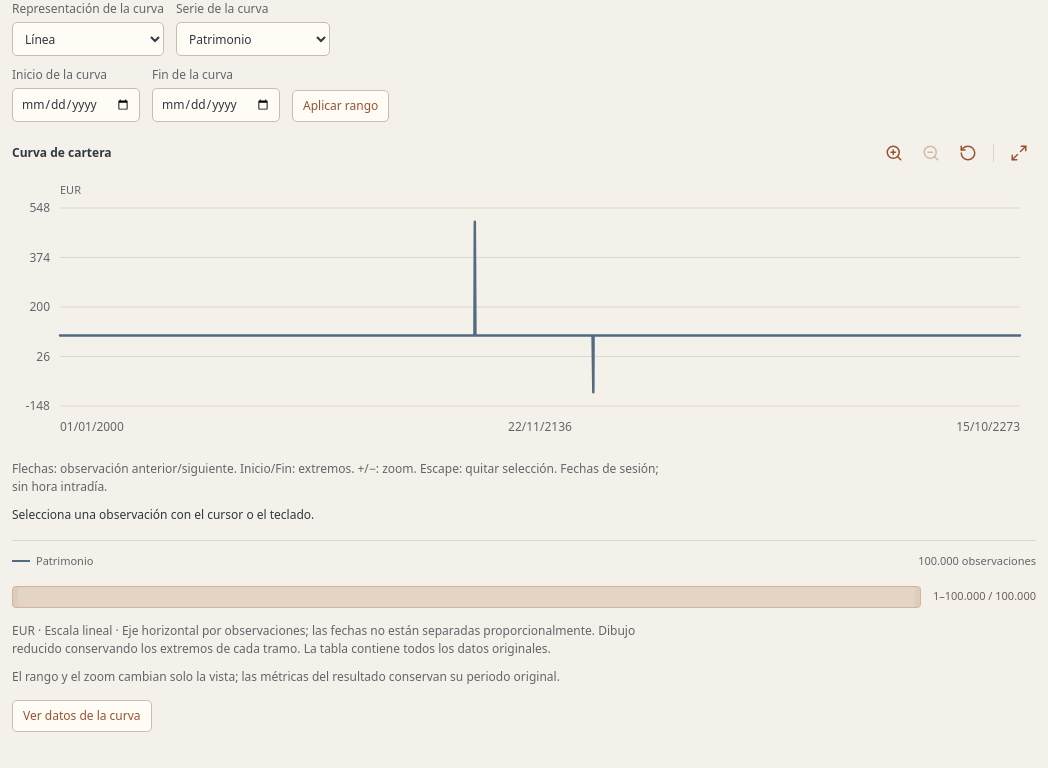
Curva accesible y representación de valores › reduce solo el dibujo de una serie grande y conserva extremos, endpoints y filas originales
Check: the text "Dibujo reducido conservando los extremos" is shown, box [12,622,635,656]
Step 1. Click the button "Ver datos de la curva" → [82, 716], box [12,700,152,732]
(page scrolled)
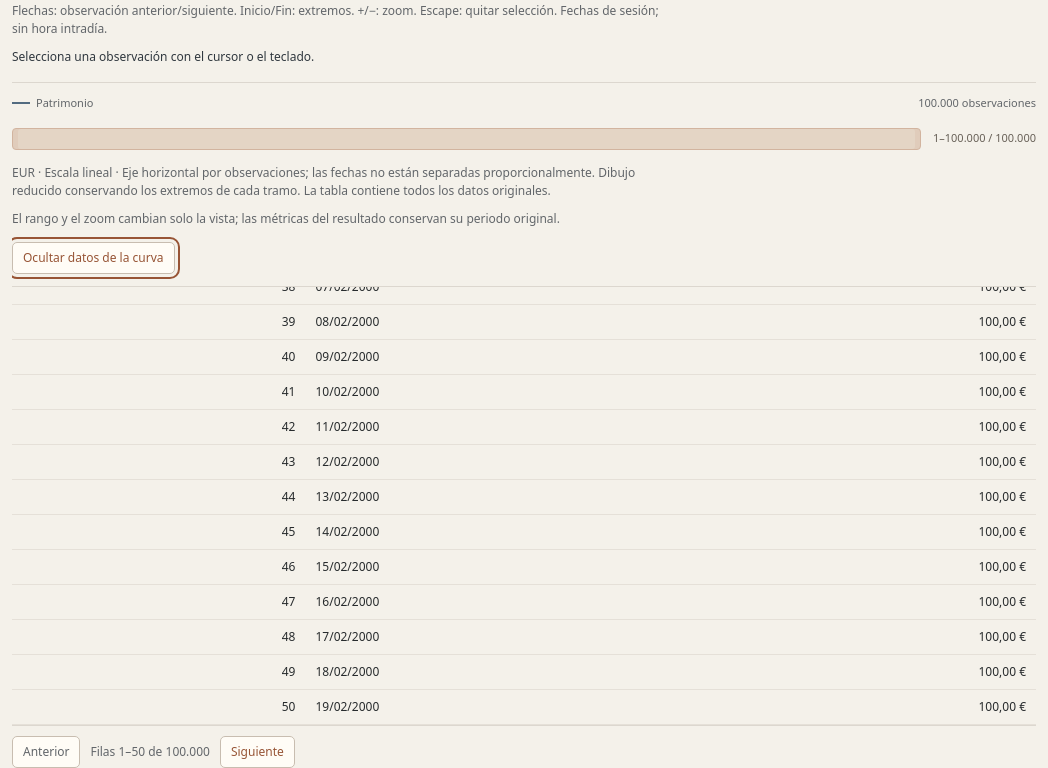
Check: the text "Filas 1–50 de 100.000" is shown, box [90,742,210,760]
Check: the cell "19/02/2000" is shown, box [305,689,658,724]
